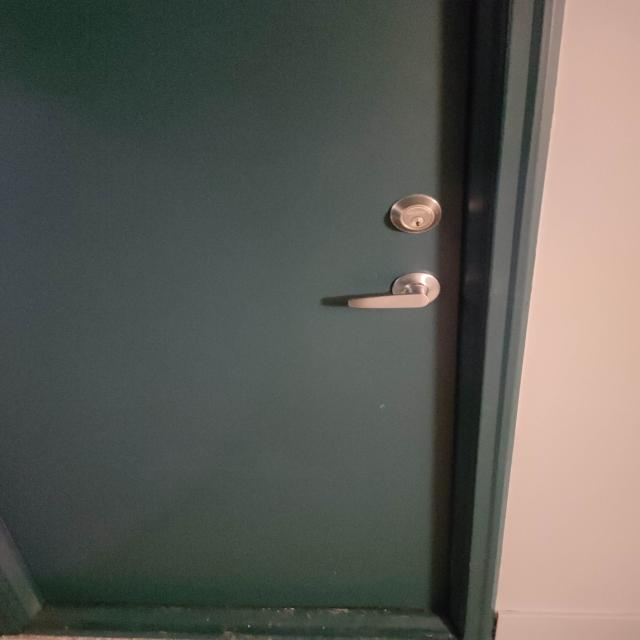door-handle: (347, 272, 440, 309)
